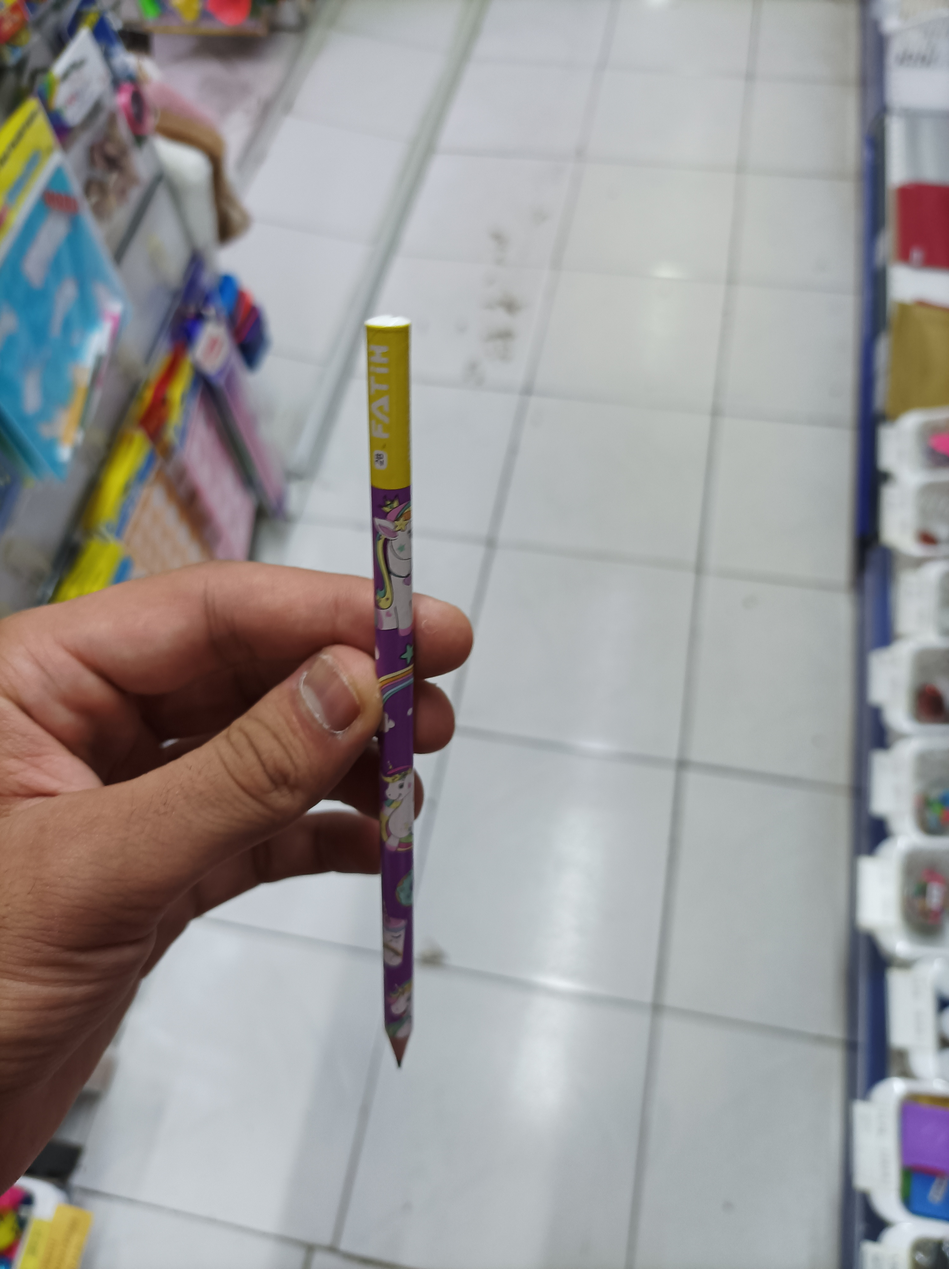plastic: (360, 311, 426, 1069)
